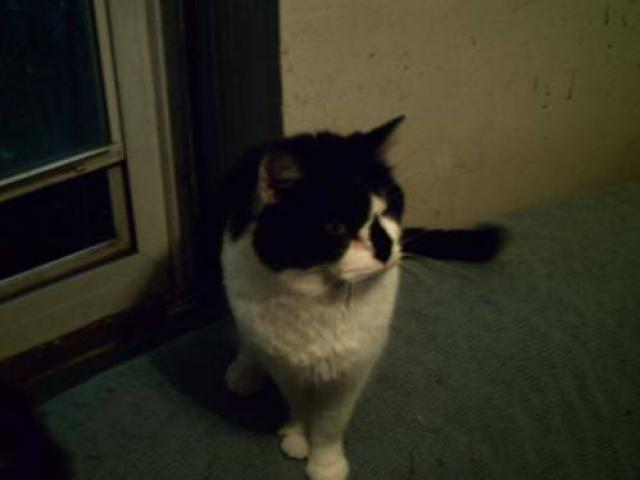cat: (213, 113, 481, 477)
